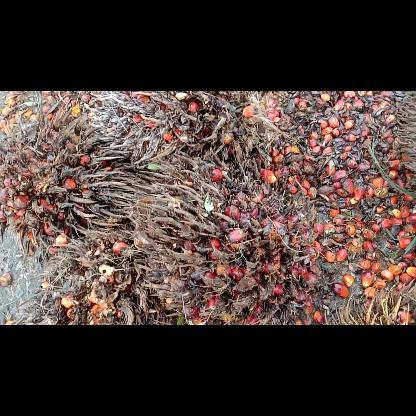Terlalu masak: (104, 146, 330, 324), (0, 102, 140, 258), (81, 90, 287, 172), (30, 224, 178, 324)
